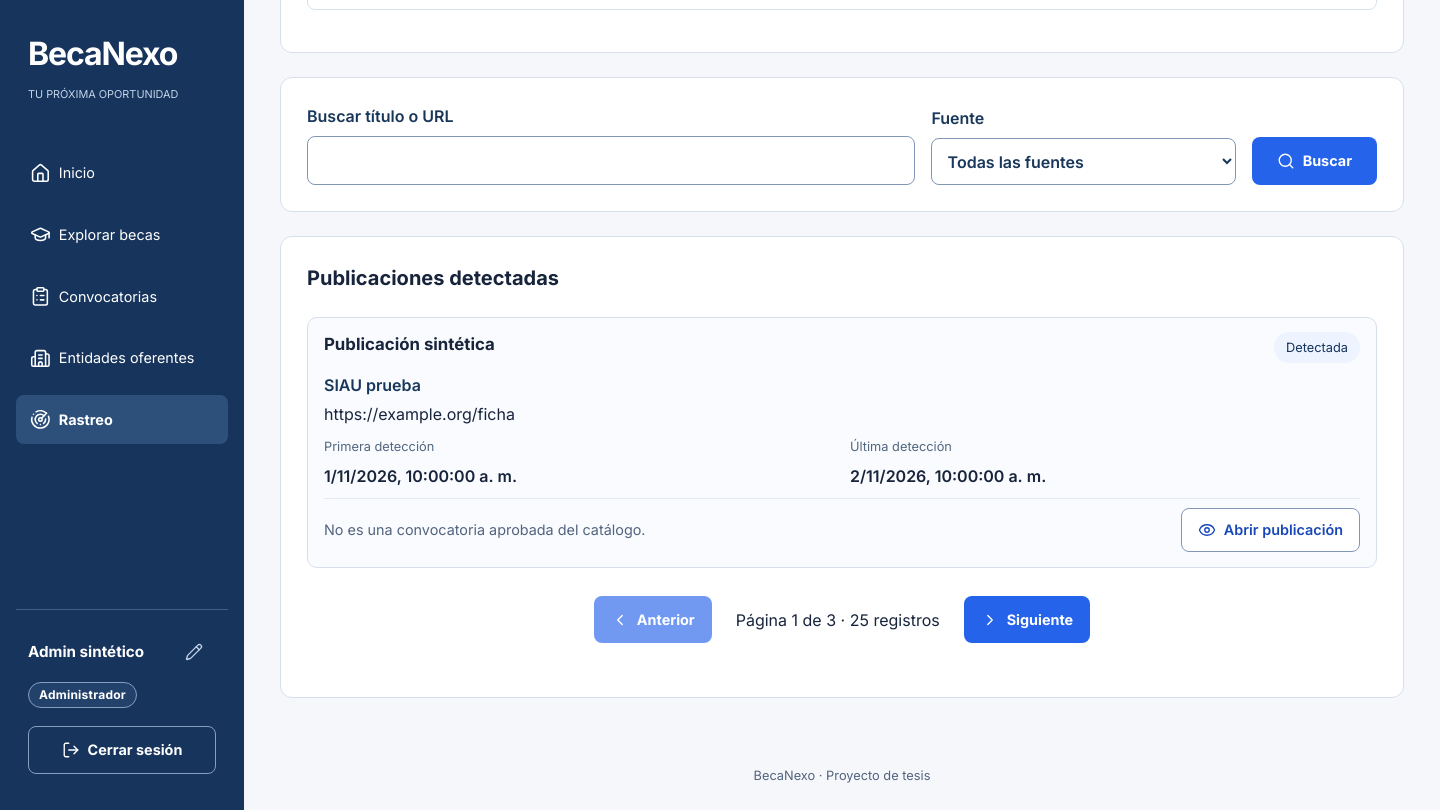
envía búsqueda, fuente y paginación bajo los resultados
(page scrolled)
Expected: the link "Publicación sintética" is shown, [324,334,495,354]
Click the button "Siguiente" at (1027, 620), box [964,596,1090,643]
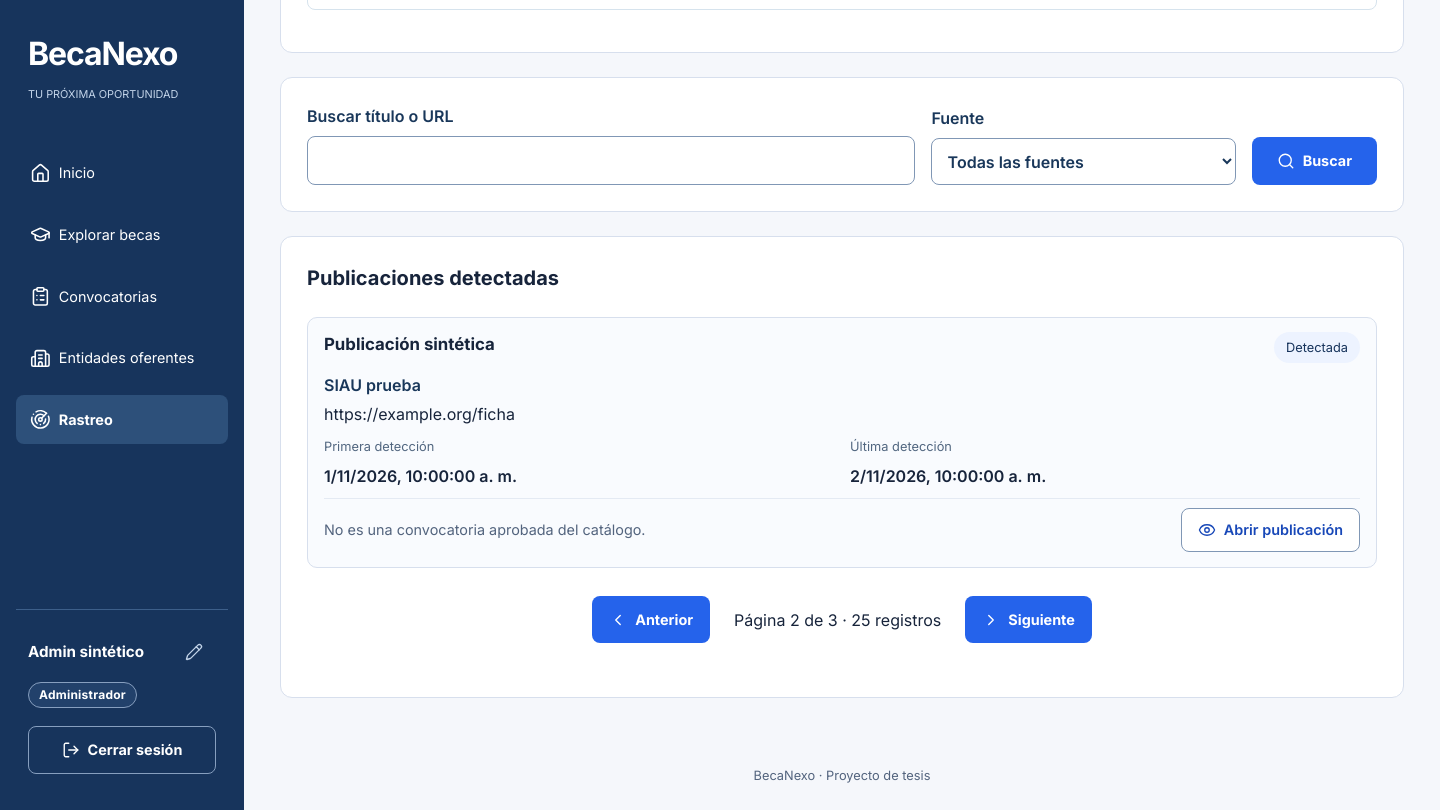
Expected: the text "Página 2 de 3 · 25 registros" is shown, [734,608,941,632]
Type "beca" into the search field labelled "Buscar título o URL" at (611, 161), box [307,136,915,185]
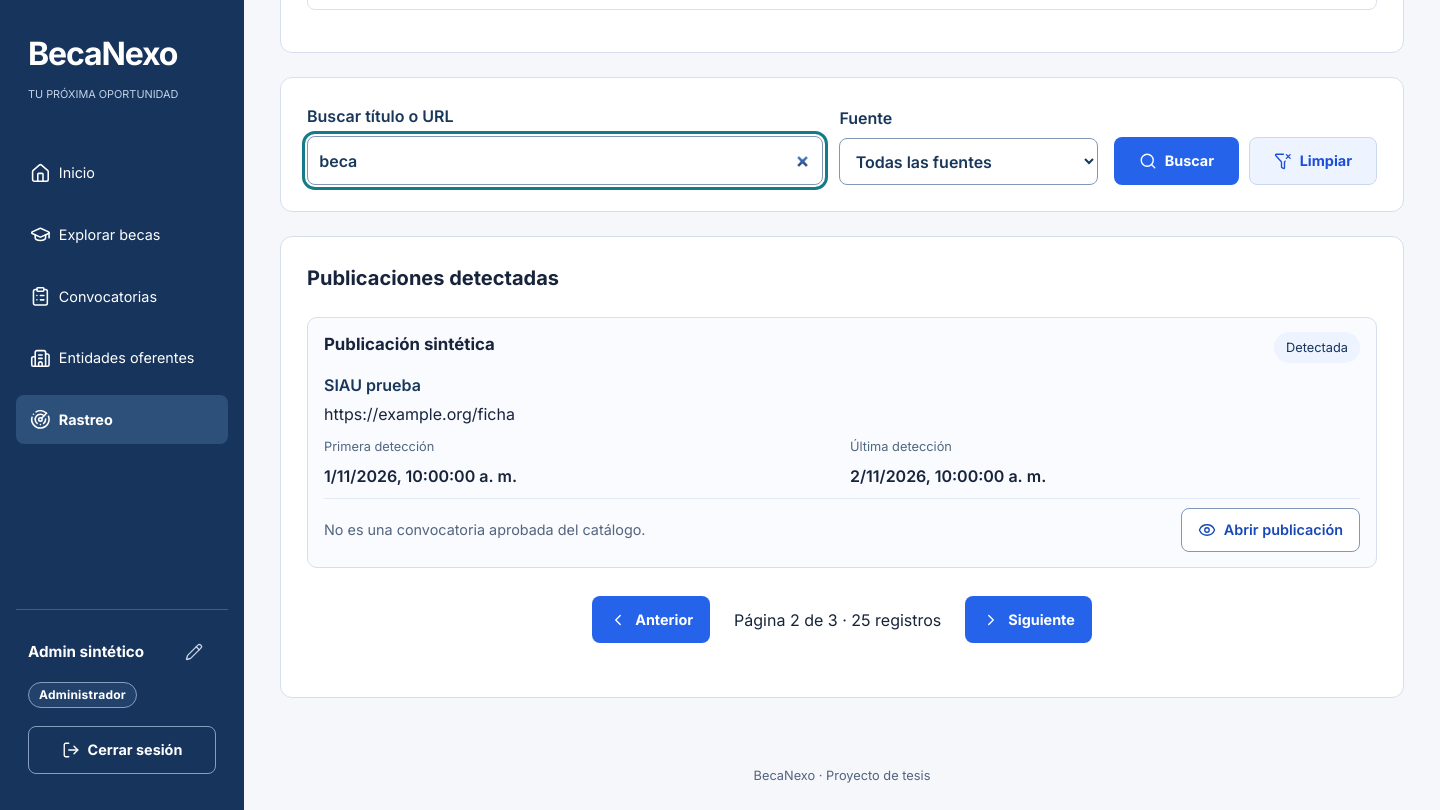
Select "SIAU prueba" in the dropdown labelled "Fuente" at (968, 162), box [839,138,1098,185]
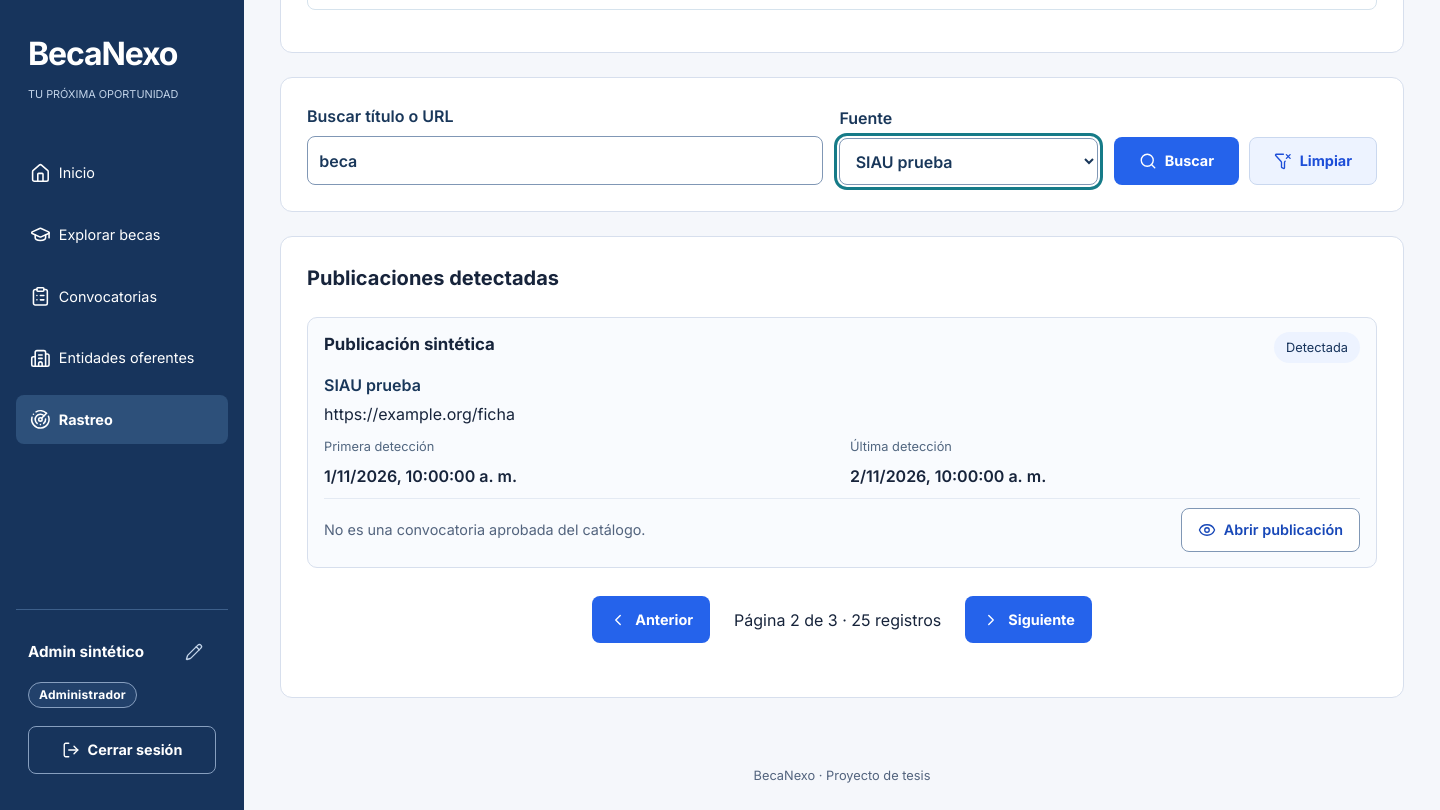
Click the button "Buscar" at (1176, 161), box [1114,137,1239,185]
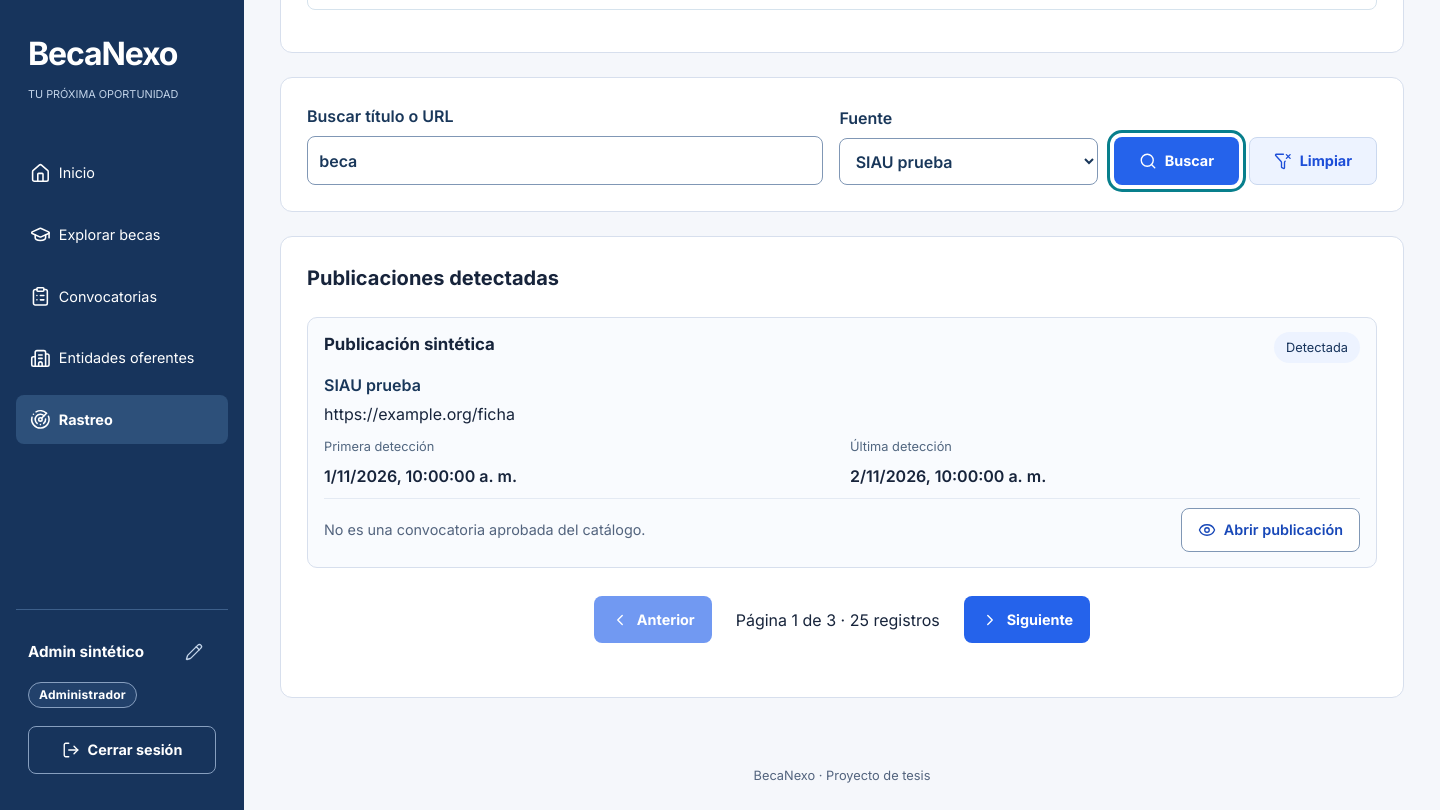
Expected: the text "Página 1 de 3 · 25 registros" is shown, [736,608,940,632]
